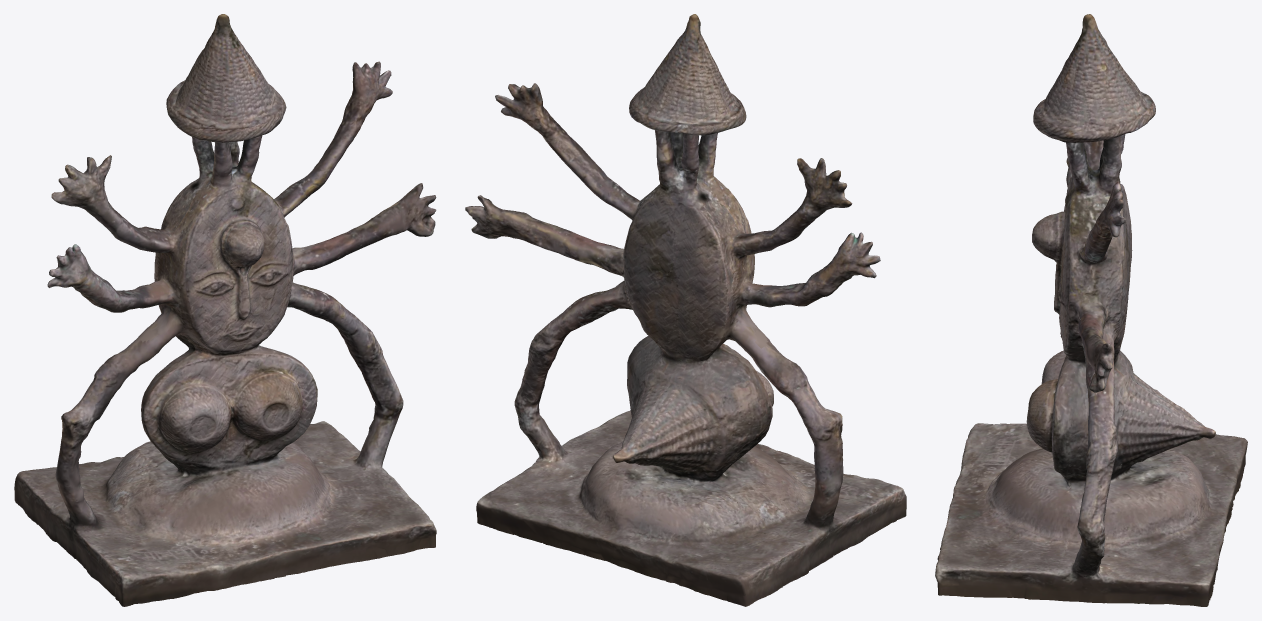
Rendered from parekh-bronze-2-1.glb.
3 views of the same model, side by side, from view 1: azimuth 30°, elevation 25°; view 2: azimuth 150°, elevation 25°; view 3: azimuth 270°, elevation 25° (orthographic).
Parts seen in each view (by area): view 1: Mesh; view 2: Mesh; view 3: Mesh.
Boxes of the visible parts, x1,y1,x2,y2 form: Mesh: [14, 14, 436, 606]; Mesh: [465, 14, 906, 606]; Mesh: [935, 14, 1247, 606].
Bounding box in the file's own units: 0.6526 × 0.79 × 0.4363.
1 material, 1 textured.
